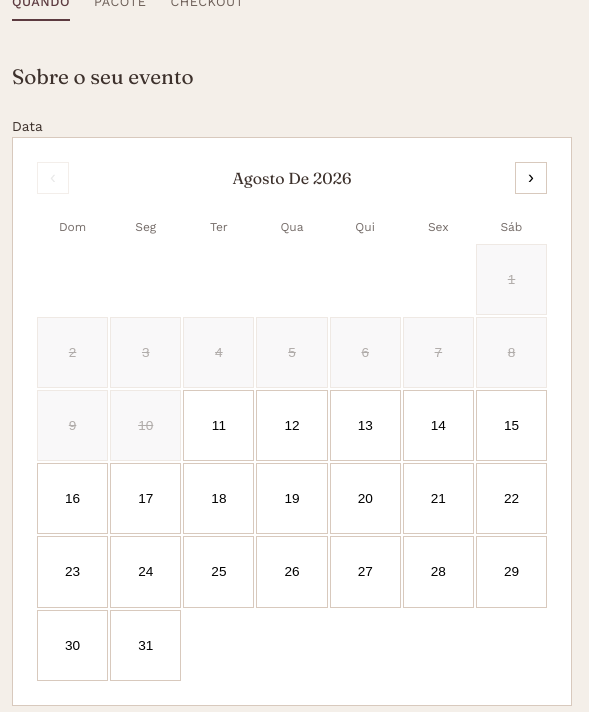
Test: ReservaEventoWizard › avança para a etapa de pacote quando a data está disponível
Click the button "21" at (438,499), box [403,463,474,534]
(page scrolled)
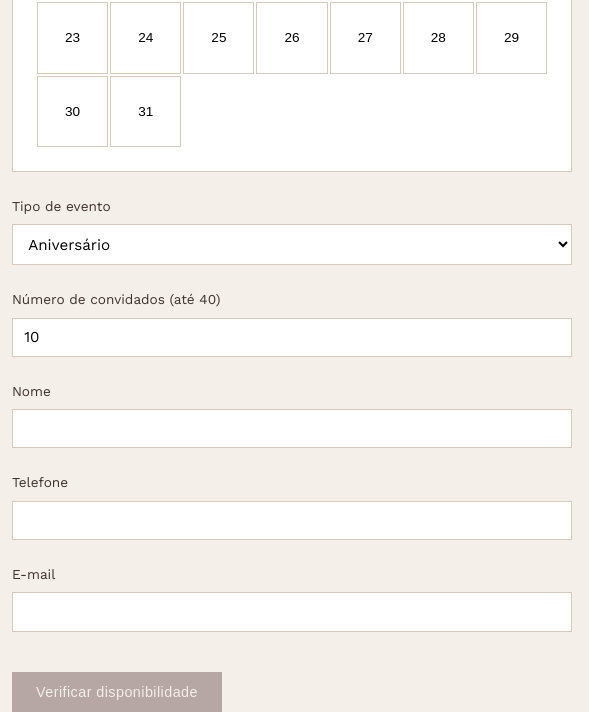
Type "Cliente Teste" into the field labelled "Nome" at (292,429), box [12,409,572,448]
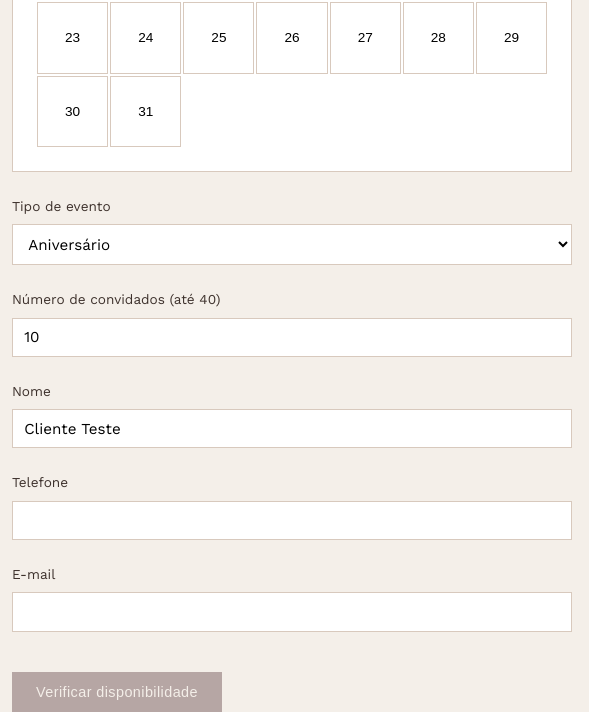
Type "+5541999999999" into the field labelled "Telefone" at (292,520), box [12,501,572,540]
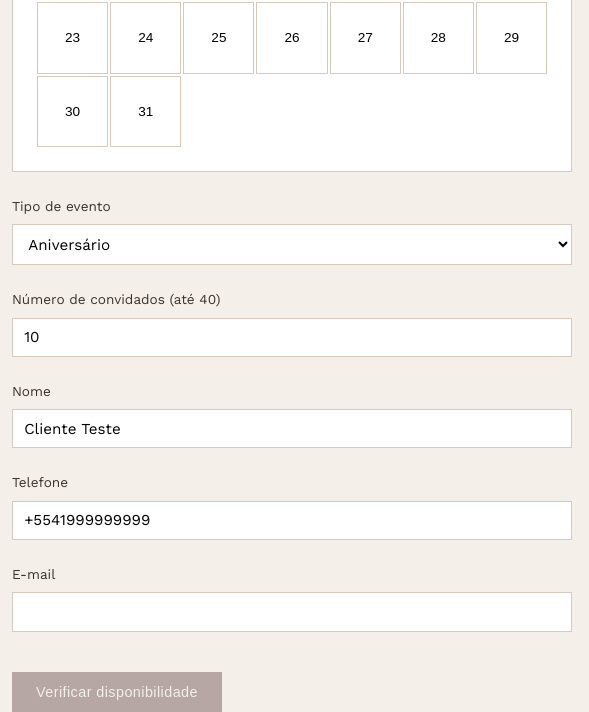
Type "teste@exemplo.com" into the field labelled "E-mail" at (292,612), box [12,592,572,632]
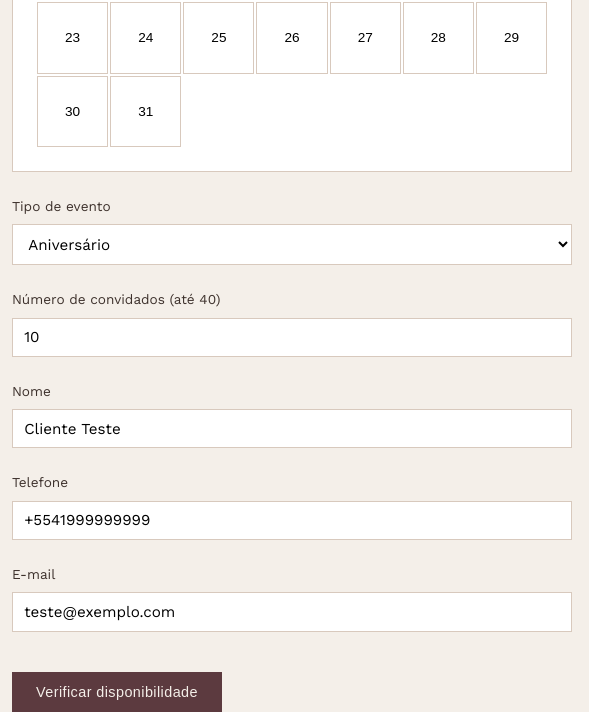
Click the button "Verificar disponibilidade" at (117,692), box [12,672,222,711]
(page scrolled)
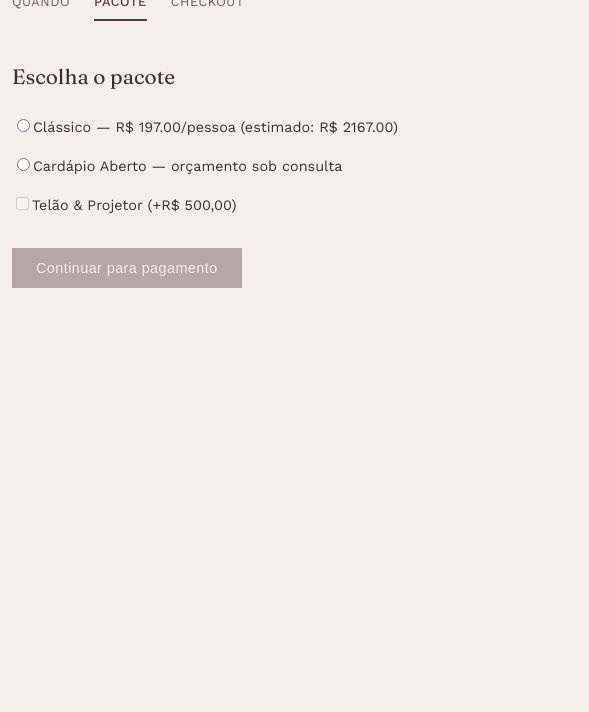
Expected: the text "Escolha o pacote" is shown, [12,61,175,92]
